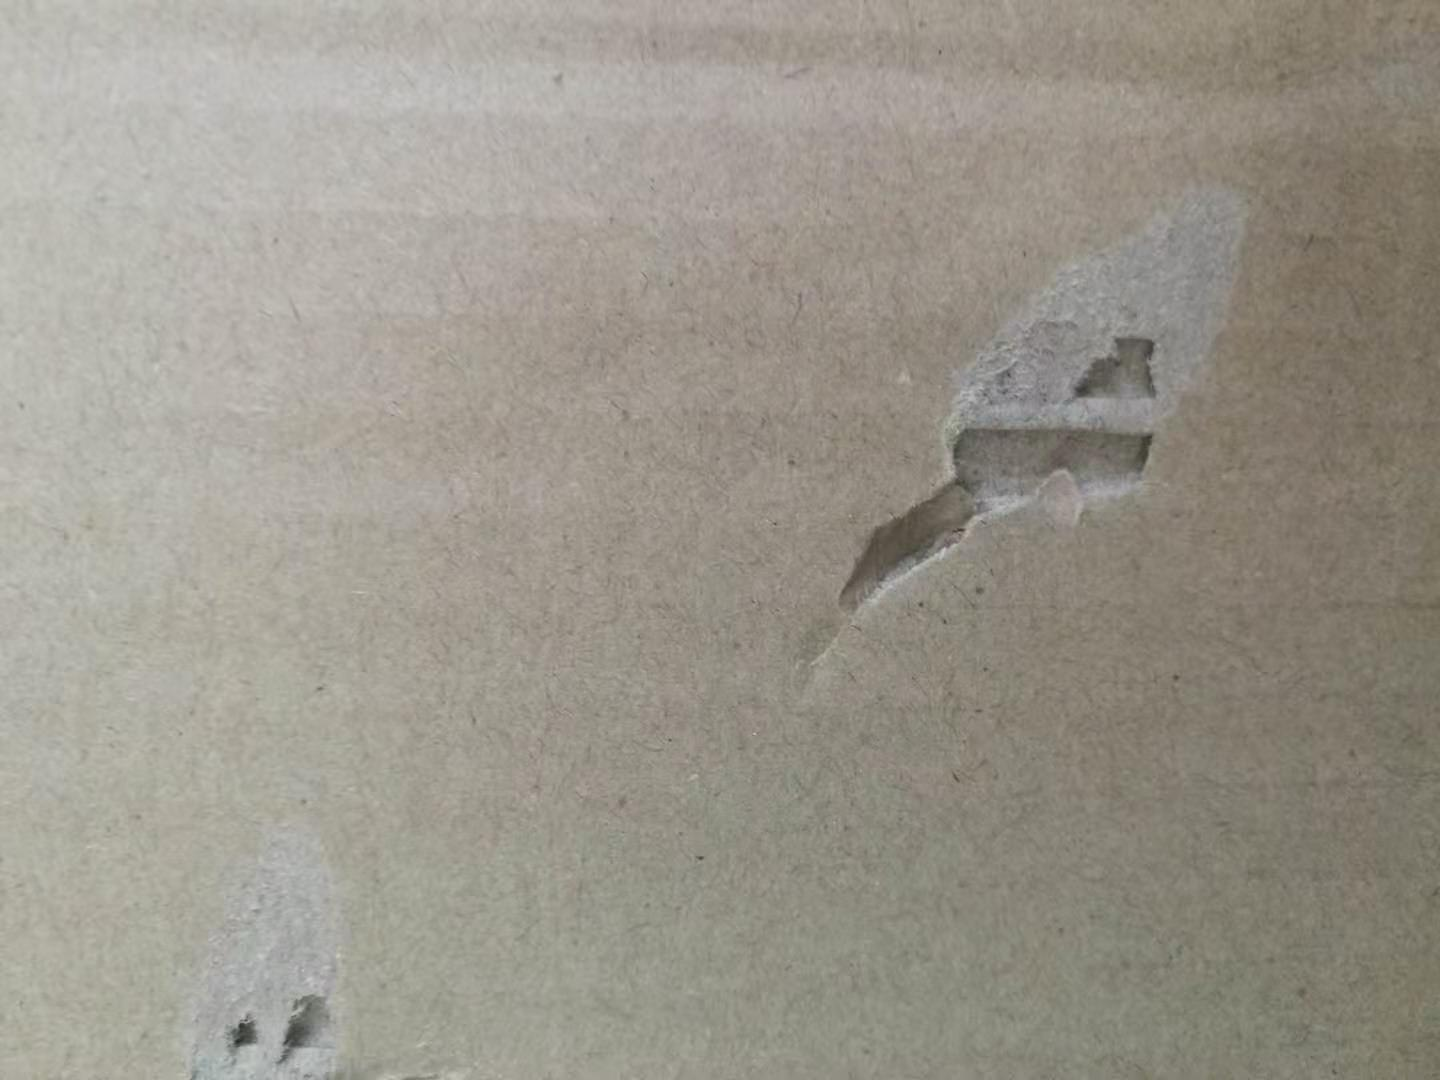defect: (739, 154, 1282, 732), (166, 788, 396, 1080)
